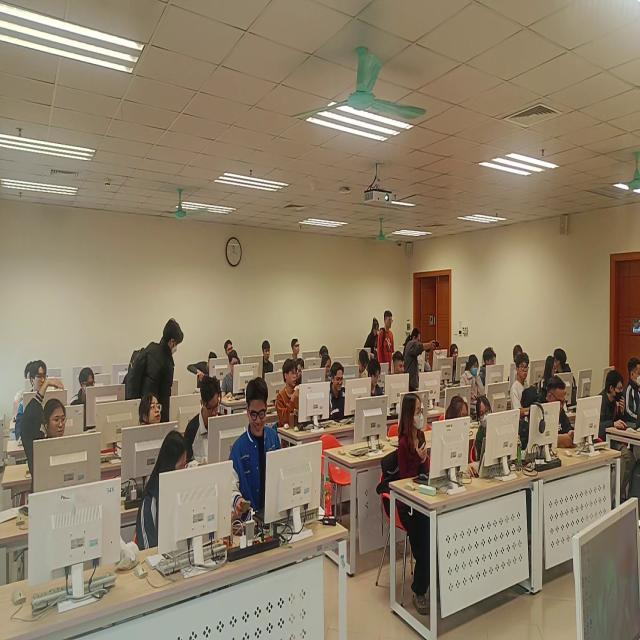raise_hand: (22, 376, 70, 503)
raise_head: (397, 388, 431, 479), (15, 359, 49, 447), (276, 358, 300, 431), (512, 352, 533, 424), (13, 362, 33, 425), (138, 388, 164, 433), (261, 338, 276, 380), (289, 335, 304, 360), (513, 344, 524, 367), (224, 334, 234, 356)
sleep: (295, 355, 306, 388)
stand: (135, 318, 183, 425), (404, 329, 440, 394), (379, 309, 396, 376), (364, 316, 380, 359)
using_computer: (136, 428, 189, 557), (183, 370, 225, 475), (443, 395, 483, 476), (595, 370, 633, 437), (70, 368, 98, 440), (328, 360, 350, 424), (193, 349, 219, 393), (627, 349, 640, 434), (460, 353, 484, 397), (223, 352, 242, 397), (368, 359, 385, 403), (541, 356, 560, 395), (481, 348, 498, 388), (450, 341, 462, 386), (392, 350, 406, 380), (319, 352, 332, 382), (357, 349, 369, 380), (425, 350, 434, 374)
using_phone: (229, 376, 285, 535), (537, 375, 577, 448)
